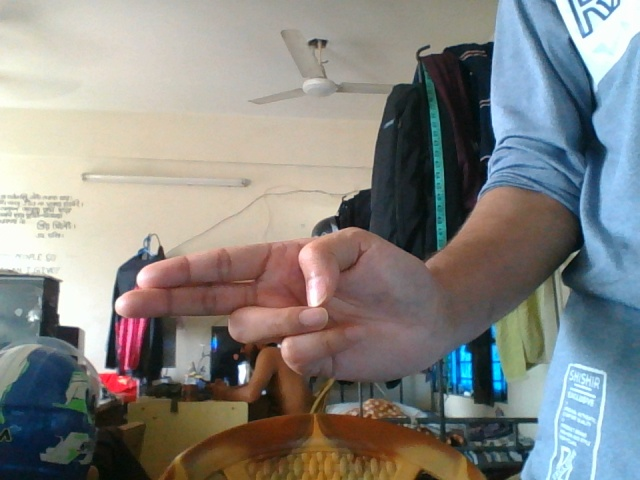ha: (101, 231, 521, 385)
